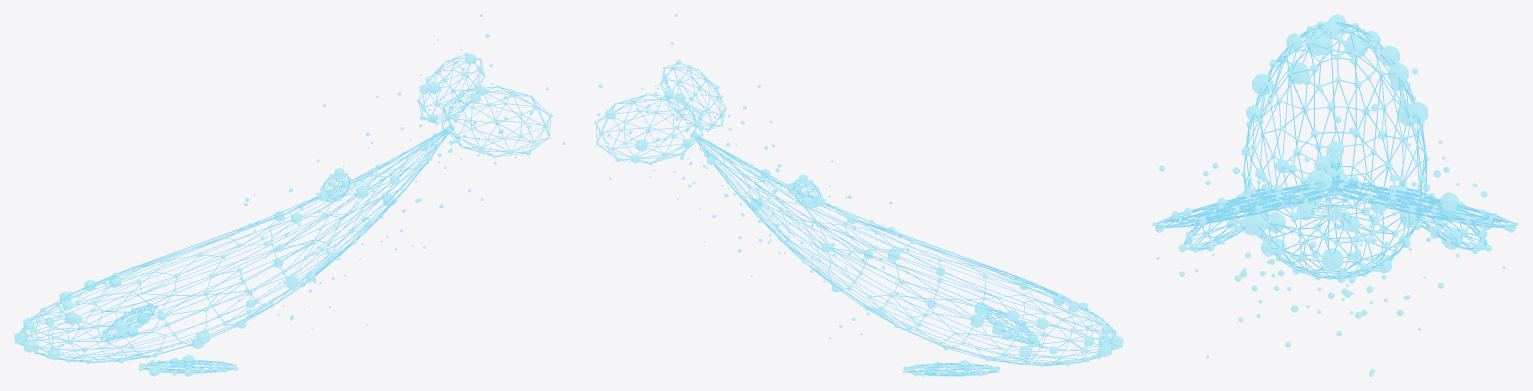
Rendered from whale.glb.
3 renders of one model, left to right at view 1: azimuth 30°, elevation 25°; view 2: azimuth 150°, elevation 25°; view 3: azimuth 270°, elevation 25°, orthographic. The views are drawn at different scales.
Parts seen in each view (by area): view 1: Whale; view 2: Whale; view 3: Whale, dot.128, dot.177, dot.076, dot.035, dot.041, dot.166, dot.174, dot.200, dot.028.
Boxes of the visible parts, x1,y1,x2,y2 form: Whale: (20, 54, 550, 373); Whale: (596, 62, 1115, 376); Whale: (1155, 21, 1515, 278); dot.128: (1321, 248, 1343, 270); dot.177: (1245, 214, 1267, 235); dot.076: (1344, 34, 1367, 58); dot.035: (1388, 63, 1408, 84); dot.041: (1407, 101, 1428, 123); dot.166: (1287, 62, 1309, 84); dot.174: (1306, 32, 1329, 56); dot.200: (1252, 73, 1272, 95); dot.028: (1379, 45, 1399, 66).
Bounding box in the file's own units: 11.79 × 6.13 × 4.2.
